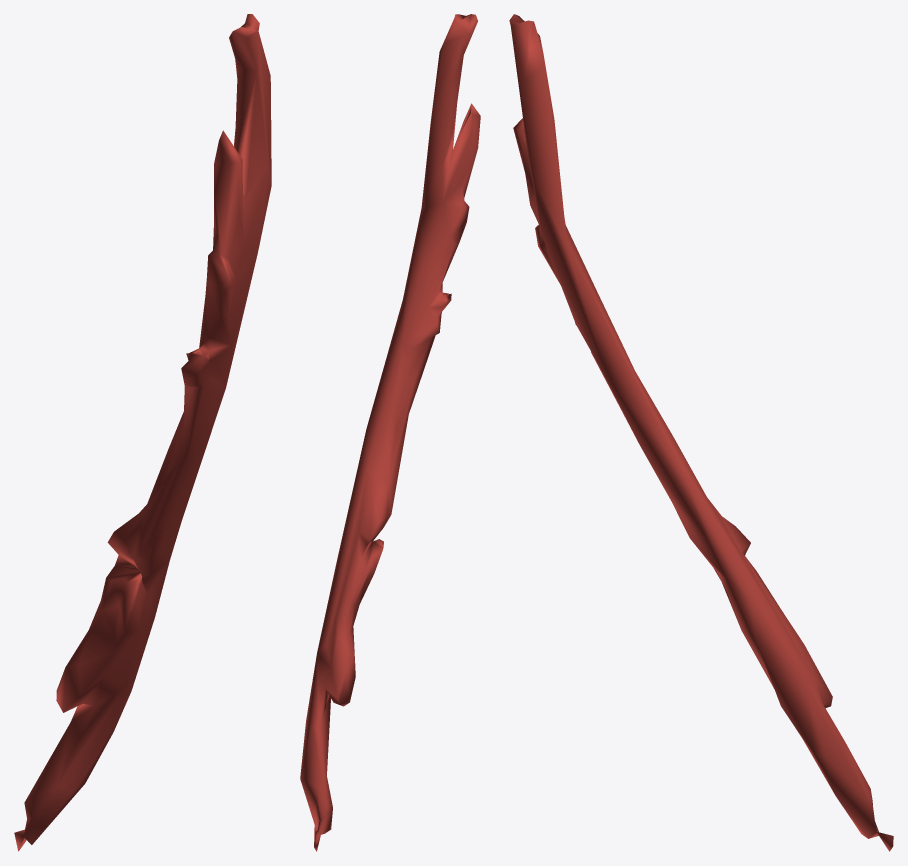
Rendered from musculos-spinalis-colli-muscle-l.glb.
3 views of the same model, side by side, from view 1: azimuth 30°, elevation 25°; view 2: azimuth 150°, elevation 25°; view 3: azimuth 270°, elevation 25° (orthographic). The views are drawn at different scales.
Parts seen in each view (by area): view 1: Spinalis colli muscle.l; view 2: Spinalis colli muscle.l; view 3: Spinalis colli muscle.l.
Part boxes in pixels (<box>): Spinalis colli muscle.l: <box>14,14,271,851</box>; Spinalis colli muscle.l: <box>300,14,480,851</box>; Spinalis colli muscle.l: <box>509,14,893,851</box>.
Bounding box in the file's own units: 0.00792 × 0.1058 × 0.0438.
